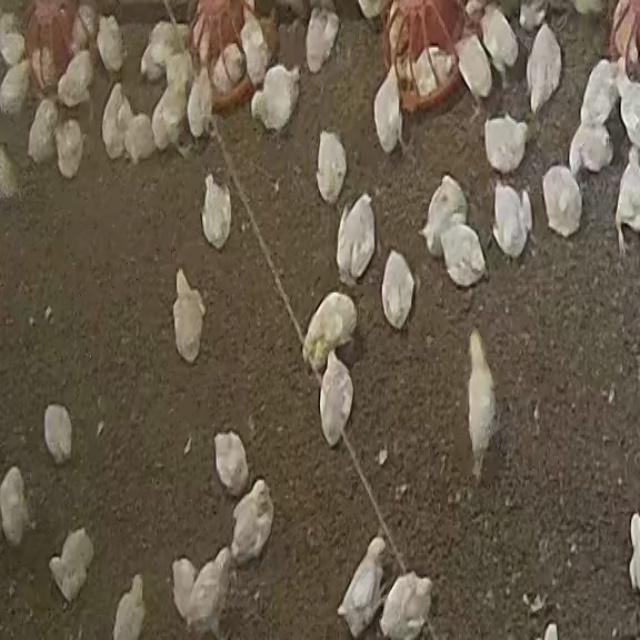chicken: (170, 542, 240, 640), (338, 533, 392, 639), (465, 328, 500, 481), (245, 61, 307, 138), (314, 351, 357, 452), (303, 293, 356, 373), (421, 174, 468, 258), (451, 29, 496, 113), (380, 571, 433, 640), (525, 22, 563, 118), (230, 482, 274, 562), (48, 527, 94, 603), (336, 195, 376, 282), (196, 172, 238, 252), (152, 60, 188, 152), (491, 182, 532, 260), (438, 221, 486, 287), (542, 165, 584, 240), (173, 269, 206, 364), (404, 41, 459, 97), (483, 114, 529, 175), (380, 251, 415, 330), (372, 67, 403, 156), (140, 18, 183, 82), (55, 49, 96, 110), (567, 124, 613, 178), (0, 467, 31, 546), (304, 5, 339, 73), (213, 432, 250, 496), (316, 130, 348, 203), (27, 98, 60, 165), (112, 578, 146, 638), (187, 65, 213, 143), (54, 117, 86, 180), (123, 108, 157, 166), (95, 11, 124, 76), (44, 404, 74, 466), (0, 60, 32, 116)
